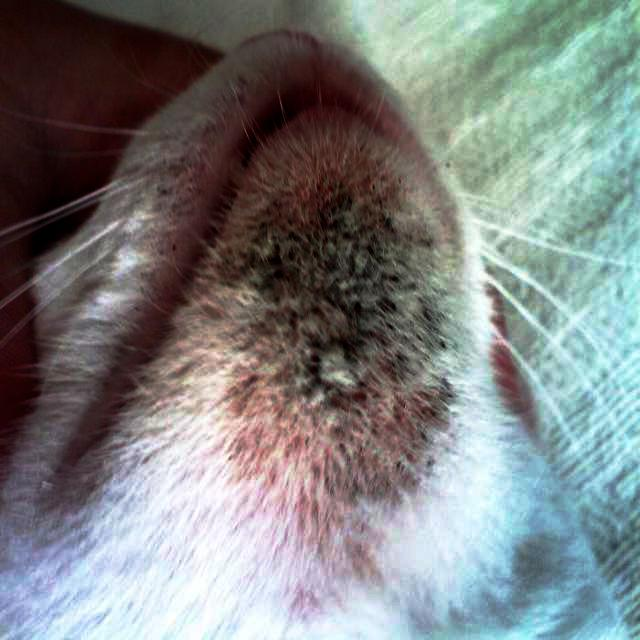acne: (246, 178, 457, 426)
